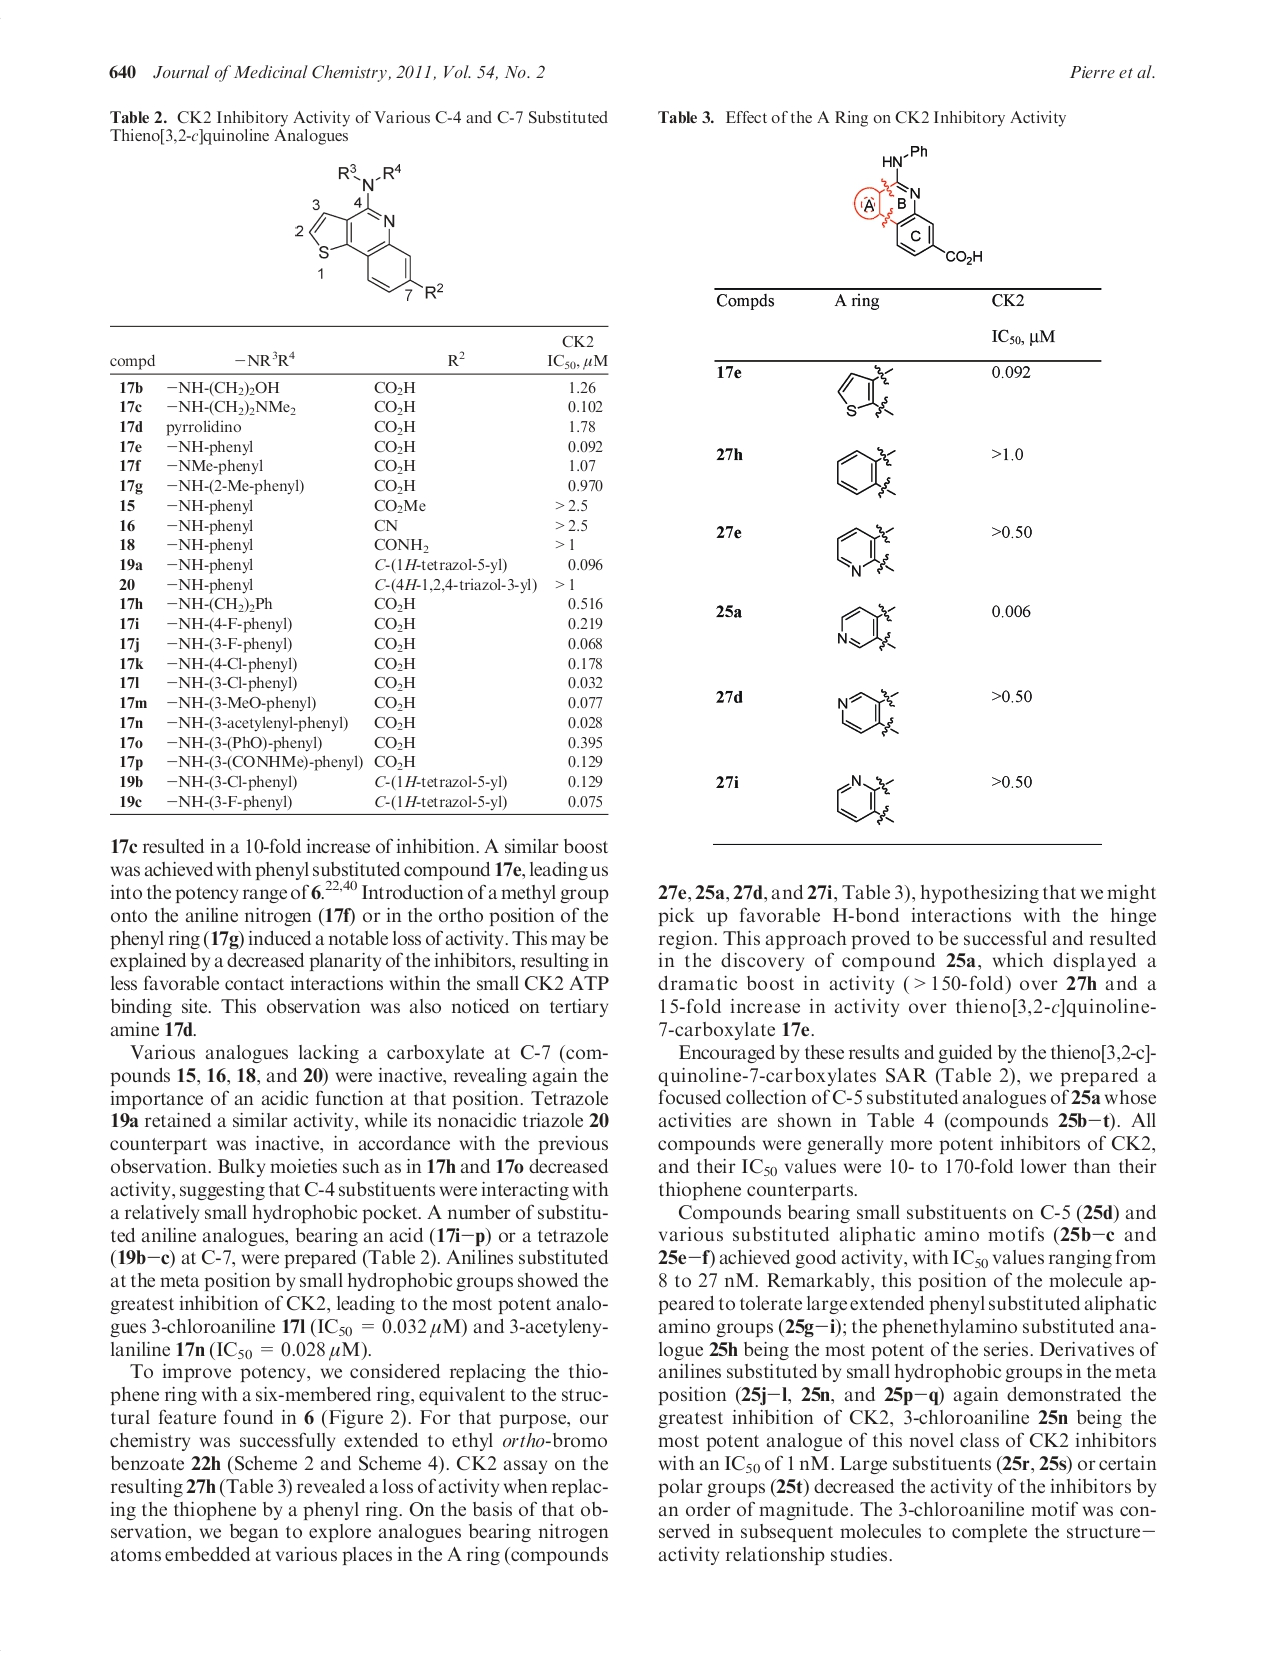exist_molecular: (306, 160, 447, 305), (852, 141, 985, 267), (832, 444, 902, 501), (832, 521, 899, 578), (832, 770, 899, 827), (832, 598, 902, 653), (836, 364, 902, 422), (835, 686, 903, 739)
